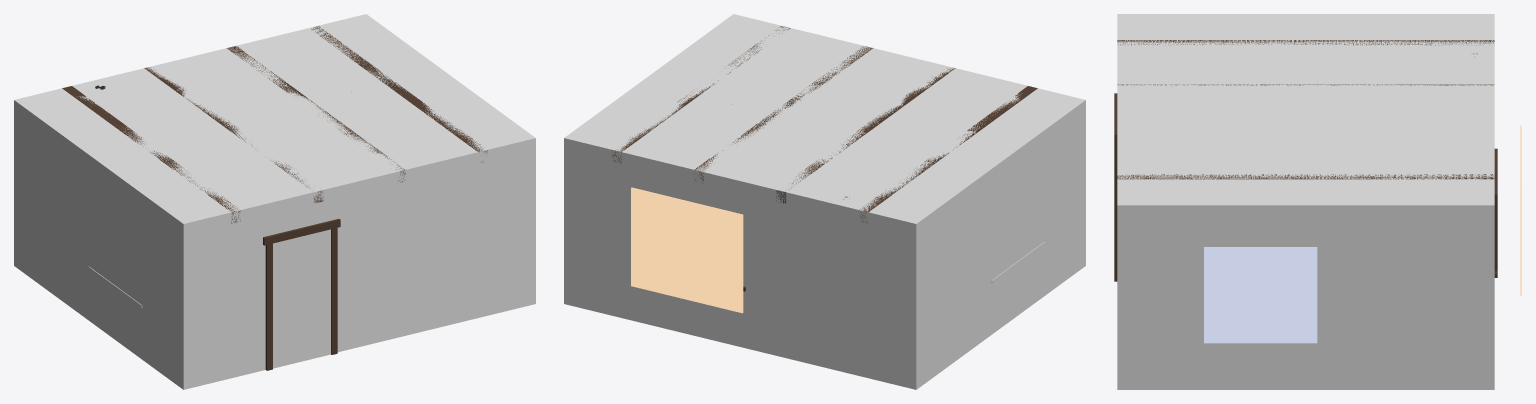
The model's file is abuelas.glb.
The picture shows the model from 3 angles, left to right: view 1: azimuth 30°, elevation 25°; view 2: azimuth 150°, elevation 25°; view 3: azimuth 270°, elevation 25°; orthographic projection. The views are drawn at different scales.
Parts seen in each view (by area): view 1: techo, pared_s, pared_o, I_puerta, viga3, viga0, jamba-1, jamba1, viga2, viga1, dintel; view 2: techo, pared_n, pared_o, cielo_n, viga0, viga1, viga2, viga3; view 3: techo, pared_e, cielo_e, viga3, viga0, jamba1, ventana_n, viga1.
Boxes of the visible parts, left/top/right/bottom form: techo: left=14, top=14, right=535, bottom=223; pared_s: left=183, top=138, right=535, bottom=389; pared_o: left=14, top=100, right=183, bottom=389; I_puerta: left=273, top=229, right=330, bottom=368; viga3: left=311, top=26, right=487, bottom=162; viga0: left=62, top=86, right=240, bottom=223; jamba-1: left=265, top=241, right=272, bottom=370; jamba1: left=331, top=224, right=337, bottom=354; viga2: left=226, top=46, right=405, bottom=182; viga1: left=144, top=67, right=323, bottom=203; dintel: left=263, top=219, right=340, bottom=245; techo: left=564, top=14, right=1085, bottom=223; pared_n: left=564, top=138, right=916, bottom=389; pared_o: left=916, top=100, right=1085, bottom=389; cielo_n: left=631, top=187, right=743, bottom=313; viga0: left=859, top=86, right=1037, bottom=223; viga1: left=776, top=68, right=955, bottom=203; viga2: left=694, top=46, right=873, bottom=183; viga3: left=612, top=26, right=790, bottom=163; techo: left=1117, top=14, right=1494, bottom=205; pared_e: left=1117, top=205, right=1494, bottom=389; cielo_e: left=1204, top=247, right=1317, bottom=343; viga3: left=1117, top=174, right=1494, bottom=179; viga0: left=1117, top=40, right=1494, bottom=45; jamba1: left=1114, top=143, right=1117, bottom=281; ventana_n: left=1494, top=148, right=1497, bottom=277; viga1: left=1117, top=84, right=1494, bottom=85.
Bounding box in the file's own units: 6.37 × 2.72 × 5.4.
